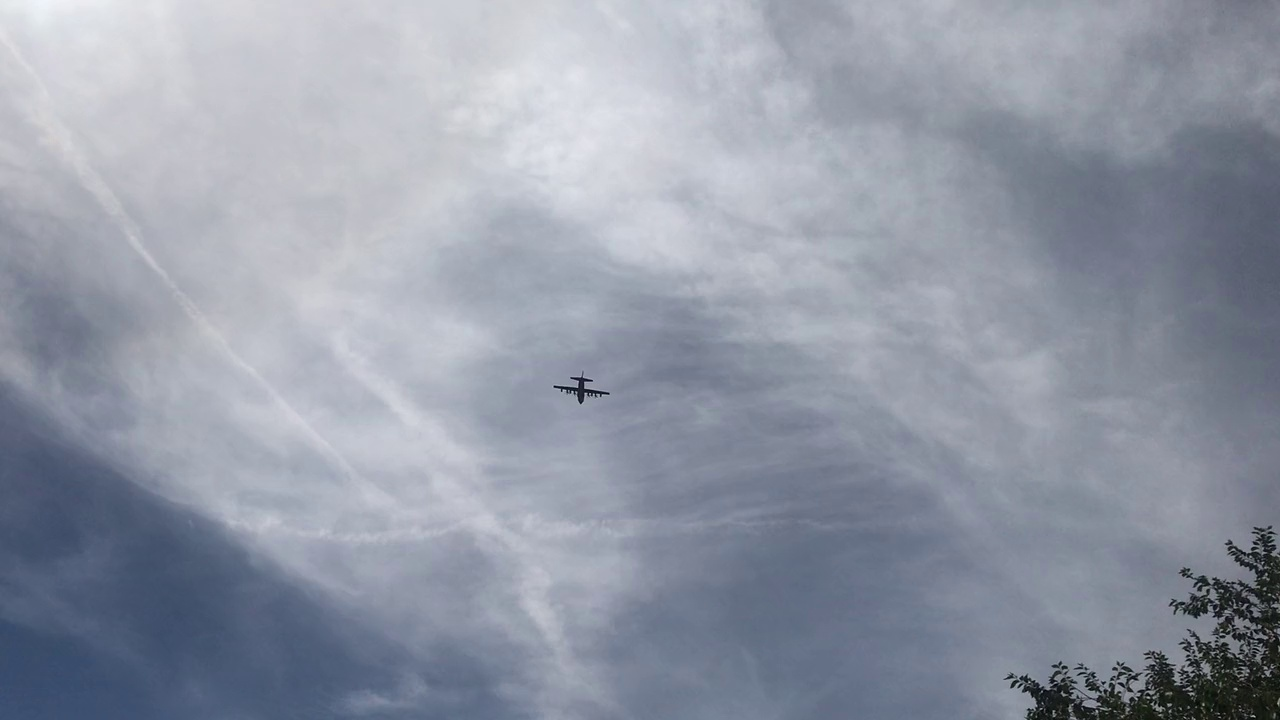plane: (553, 368, 611, 407)
